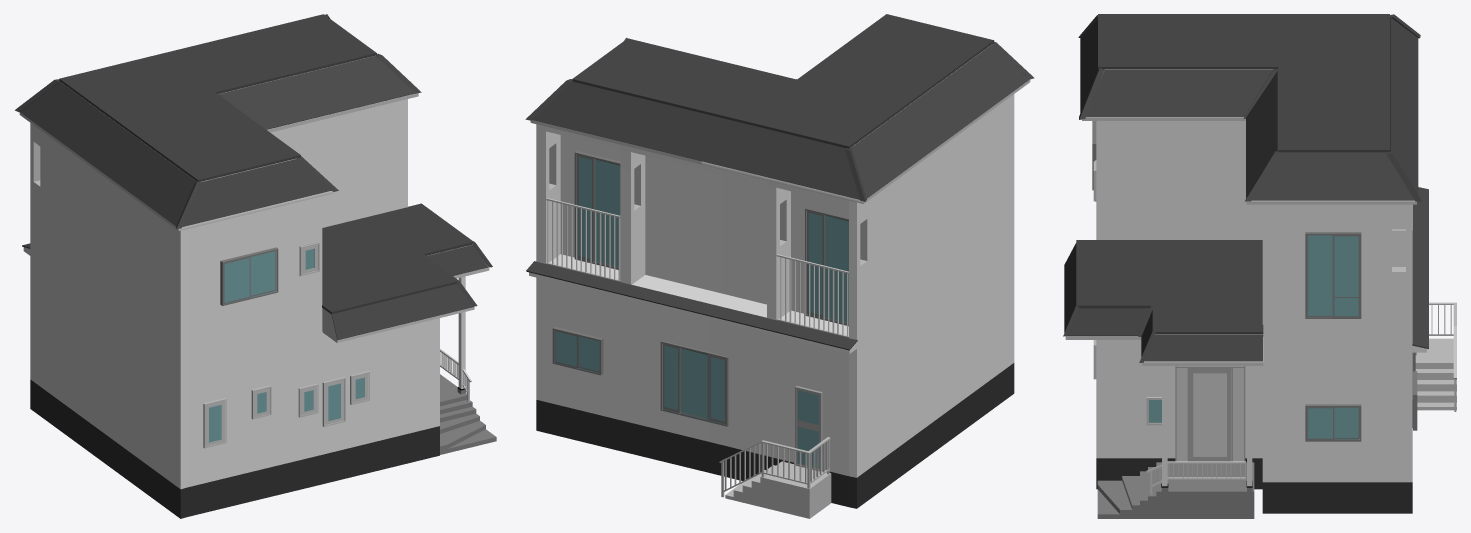
Rendered from House_11_middle.fbx.
The picture shows the model from 3 angles, left to right: view 1: azimuth 30°, elevation 25°; view 2: azimuth 150°, elevation 25°; view 3: azimuth 270°, elevation 25°; orthographic projection. The views are drawn at different scales.
Parts seen in each view (by area): view 1: pCube132; view 2: pCube132; view 3: pCube132.
Boxes of the visible parts, x1,y1,x2,y2 form: pCube132: [15, 14, 496, 518]; pCube132: [525, 14, 1034, 518]; pCube132: [1063, 14, 1456, 518].
Bounding box in the file's own units: 731 × 676 × 686.
